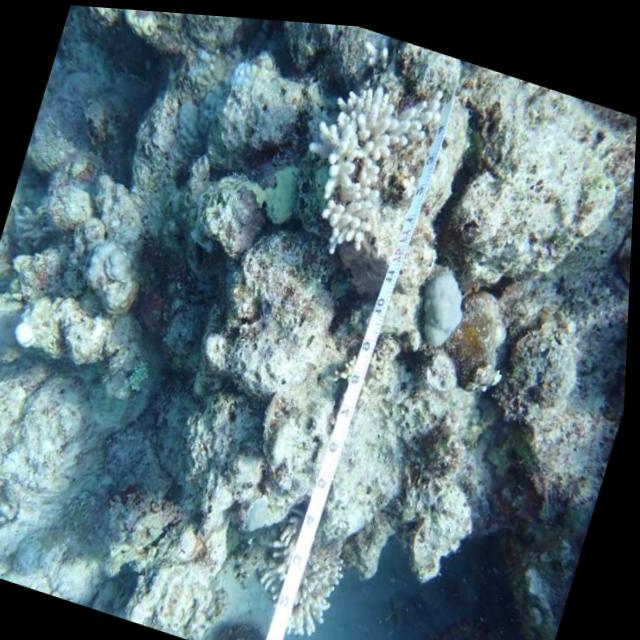Bleached Coral: (281, 44, 462, 281), (244, 504, 374, 640), (397, 230, 491, 374)
